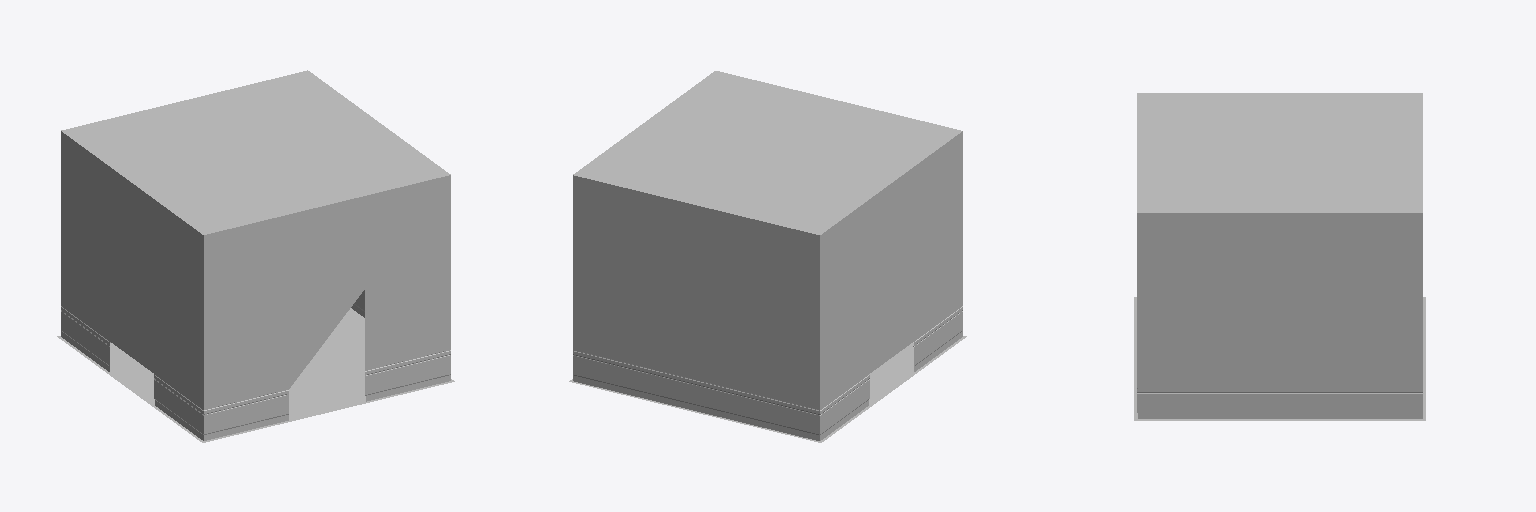
Rendered from Anubis_TwoDoorRoom_Adj.obj.
3 views of the same model, side by side, from view 1: azimuth 30°, elevation 25°; view 2: azimuth 150°, elevation 25°; view 3: azimuth 270°, elevation 25° (orthographic).
Parts seen in each view (by area): view 1: Walls, Ceiling, WallTrim, Floor; view 2: Walls, Ceiling, WallTrim, Floor; view 3: Walls, Ceiling, WallTrim, Floor.
Boxes of the visible parts, <box> form: Walls: <box>61,131,450,409</box>; Ceiling: <box>61,70,450,234</box>; WallTrim: <box>61,290,450,440</box>; Floor: <box>57,308,454,442</box>; Walls: <box>573,131,962,409</box>; Ceiling: <box>573,71,961,234</box>; WallTrim: <box>573,306,962,440</box>; Floor: <box>569,336,966,442</box>; Walls: <box>1137,213,1422,387</box>; Ceiling: <box>1137,93,1422,212</box>; WallTrim: <box>1137,388,1422,418</box>; Floor: <box>1134,297,1425,420</box>.
Bounding box in the file's own units: 10 × 7.8 × 10.